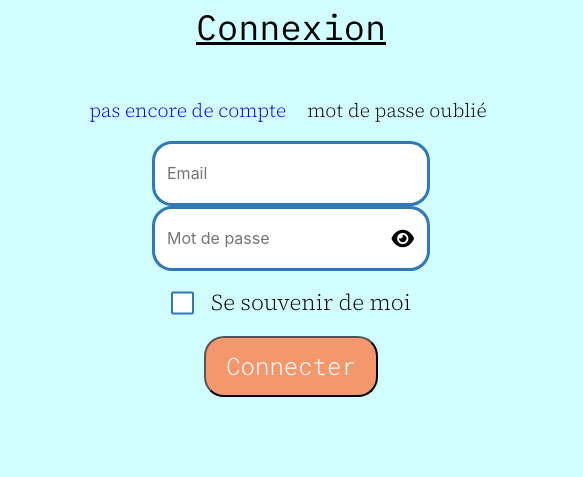
Scenario: LoginSection › should render an error is submit error
This screenshot has width=583, height=477.
Type "test@example.com" into the field with placeholder "Email" at (291, 174), box [152,141,430,206]
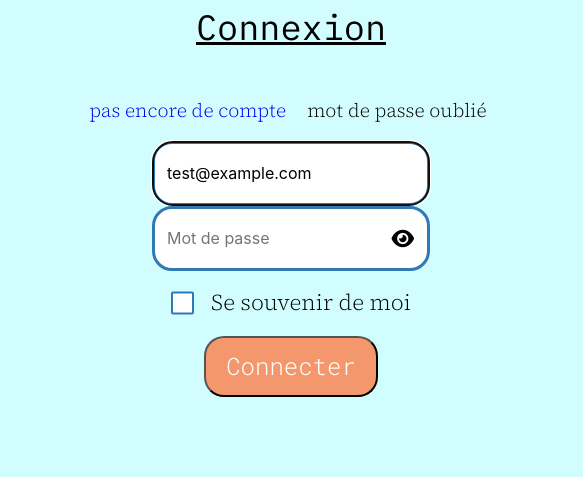
Type "Password123!" into the password field with placeholder "Mot de passe" at (291, 238), box [152,206,430,271]
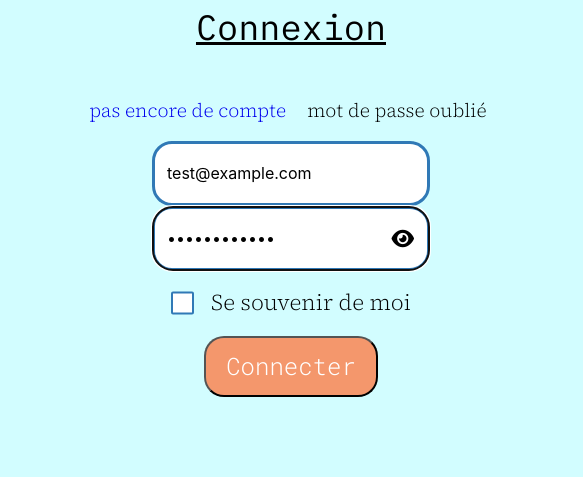
Click the button "Connecter" at (291, 366), box [204,336,378,397]
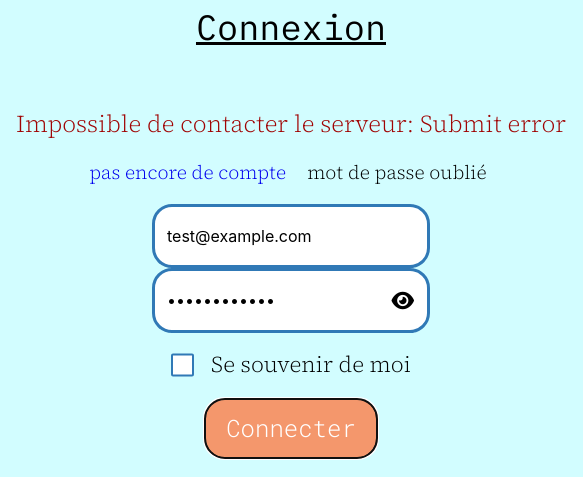
Expected: the text "Impossible de contacter le serveur: Submit error" is shown, [16,105,566,142]
